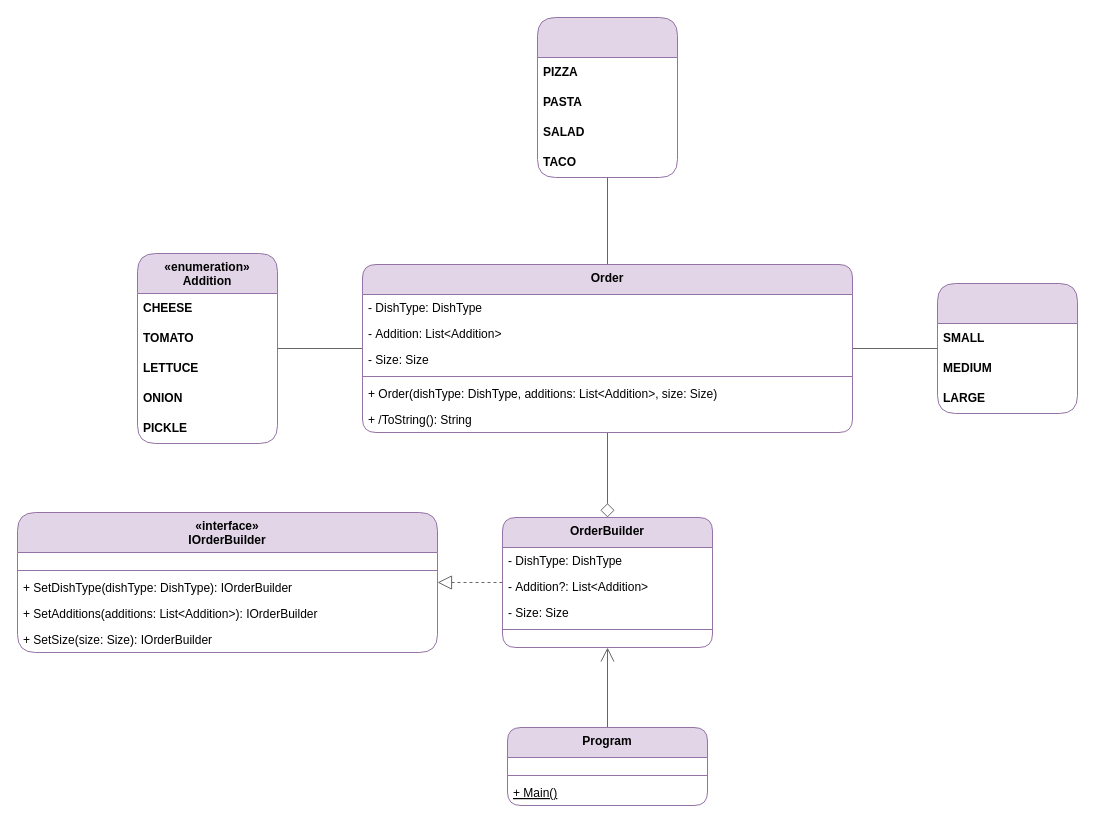
Some shapes in this 1095 by 826 pixel diagram are drawn without their labels. The shapes that lost their labels are listed below. From the top down, each one's box as (x1, y1, x2, y2) in pixels, then its label:
(536, 16, 678, 178): «enumeration» DishType
(936, 282, 1078, 414): «enumeration» Size
